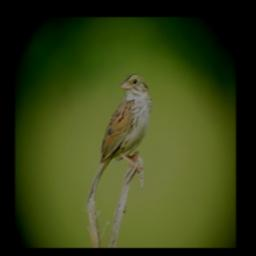Sparrow: (97, 70, 153, 189)
